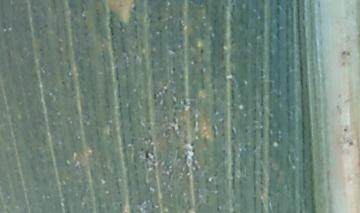tarspot: (144, 150, 151, 159), (198, 49, 205, 54)
